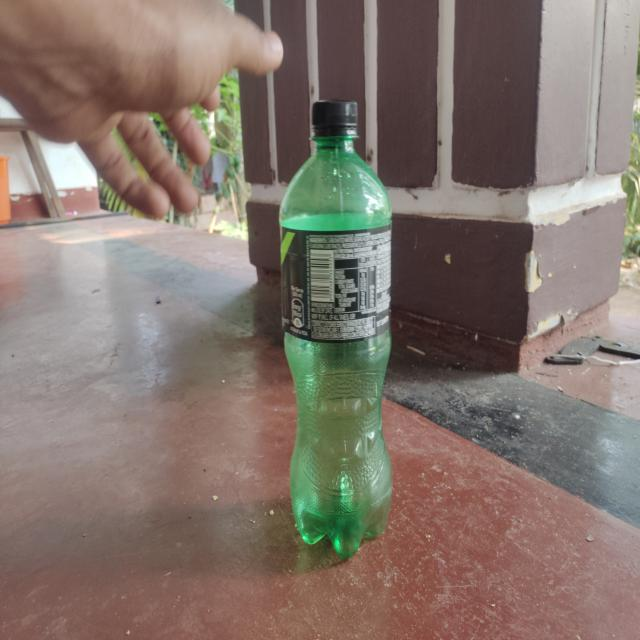plastic: (277, 95, 398, 558)
